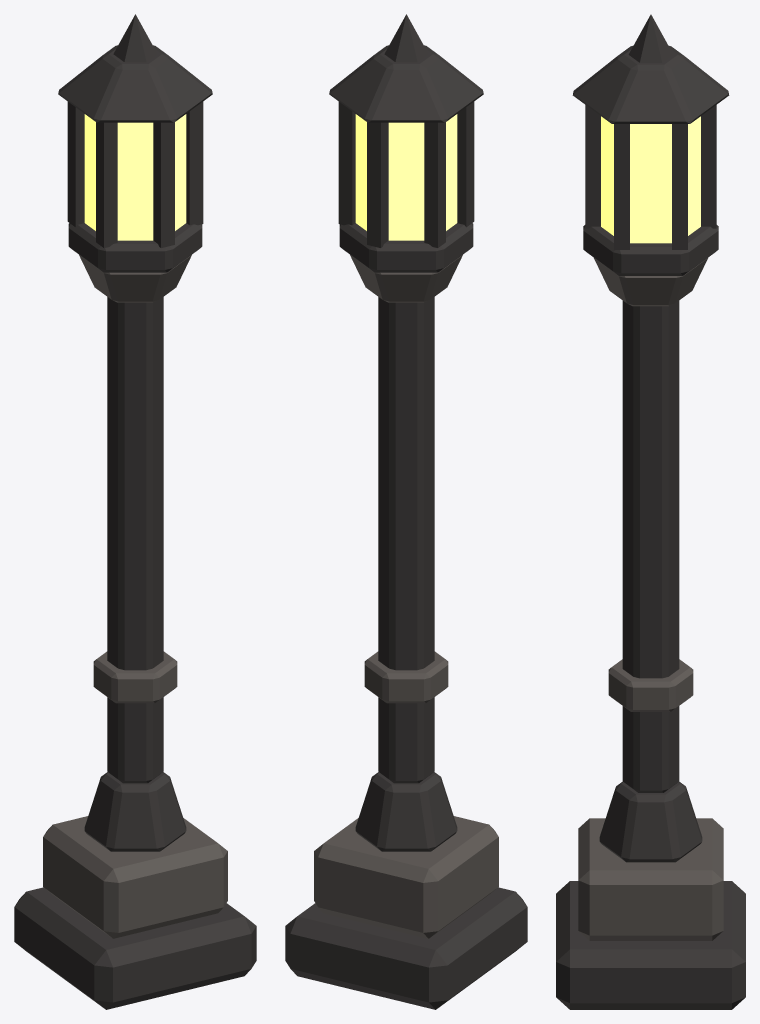
The model's file is lantern_post.glb.
The picture shows the model from 3 angles, left to right: view 1: azimuth 30°, elevation 25°; view 2: azimuth 150°, elevation 25°; view 3: azimuth 270°, elevation 25°; orthographic projection.
Parts seen in each view (by area): view 1: lantern_post; view 2: lantern_post; view 3: lantern_post.
Part boxes in pixels (<box>): lantern_post: <box>14,14,256,1009</box>; lantern_post: <box>285,14,527,1009</box>; lantern_post: <box>556,14,745,1009</box>.
Bounding box in the file's own units: 0.34 × 1.9 × 0.34.
